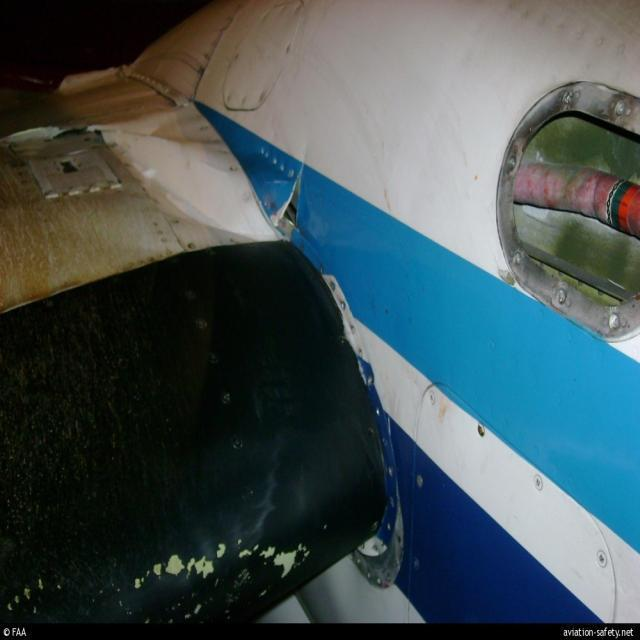crack: (500, 83, 640, 351), (272, 171, 303, 236), (272, 180, 298, 239)
dent: (135, 244, 388, 622), (89, 95, 281, 242)
